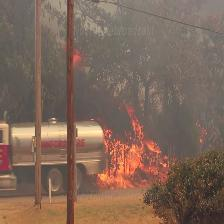fire: (76, 103, 189, 203)
